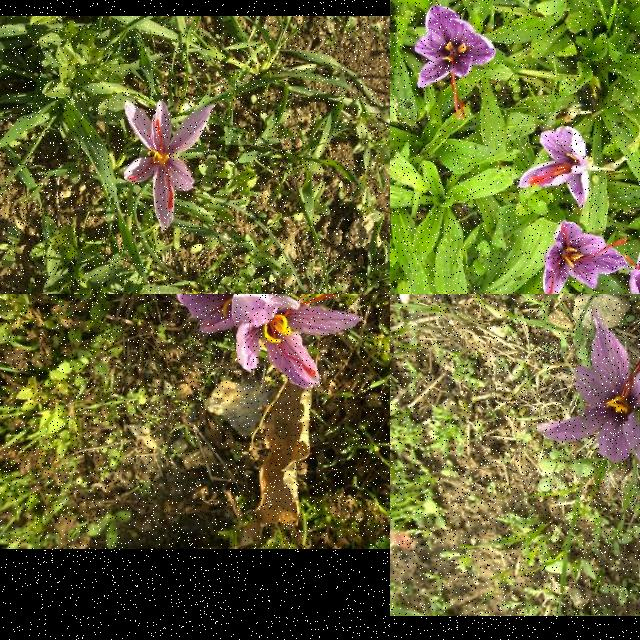flower: (535, 314, 640, 467), (125, 101, 215, 232), (417, 6, 495, 120), (543, 221, 627, 294), (516, 126, 590, 208)
overlap: (177, 294, 365, 388)
